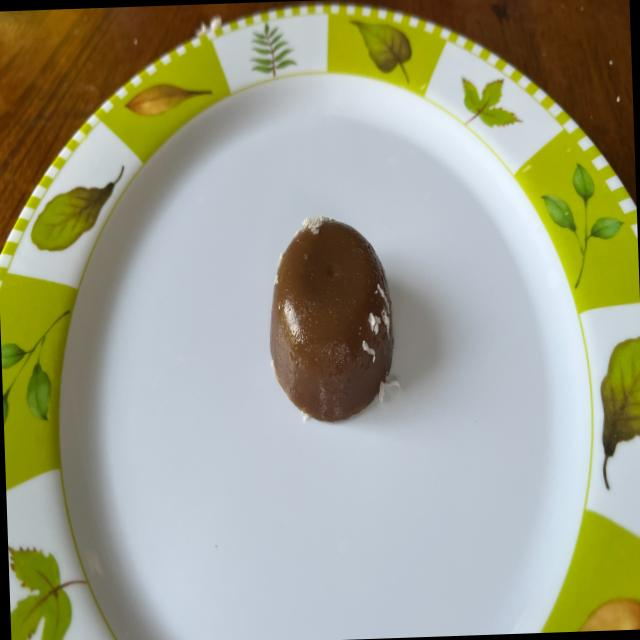Kuih lompang: (269, 215, 393, 422)
